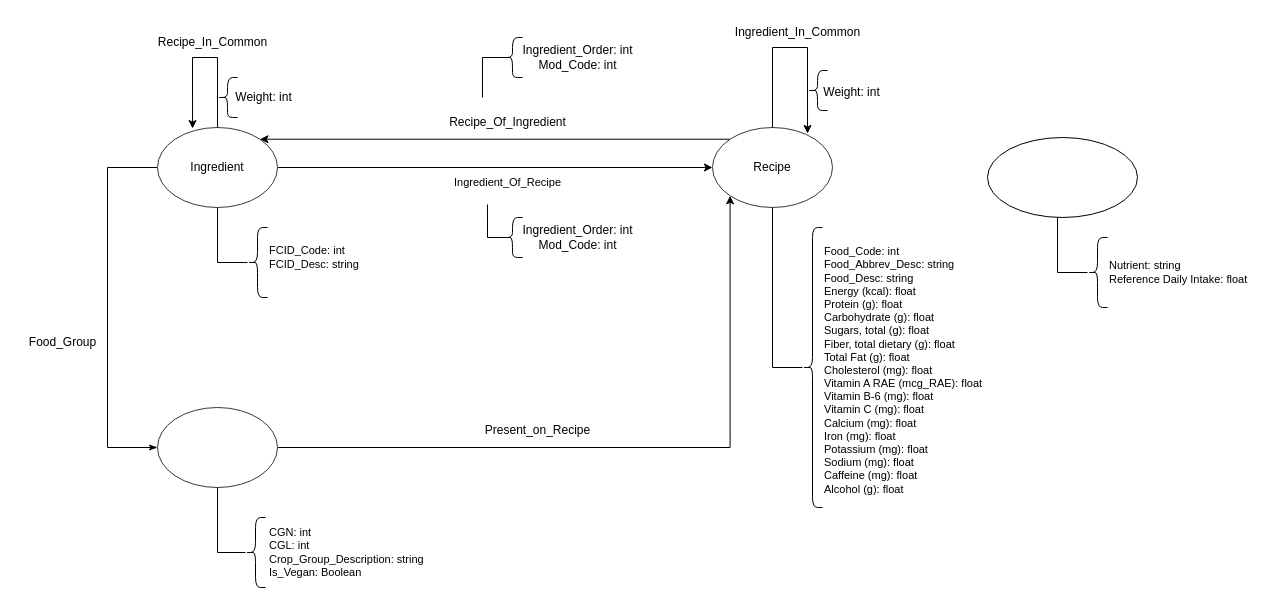
The diagram is 1284 pixels wide and 605 high, and some of its shapes have lost their labels. The box of each missing label's shape, as (x1, y1, x2, y2) in pixels:
Crop_Group: (156, 406, 278, 488)
Recommended_Values: (986, 136, 1138, 218)
